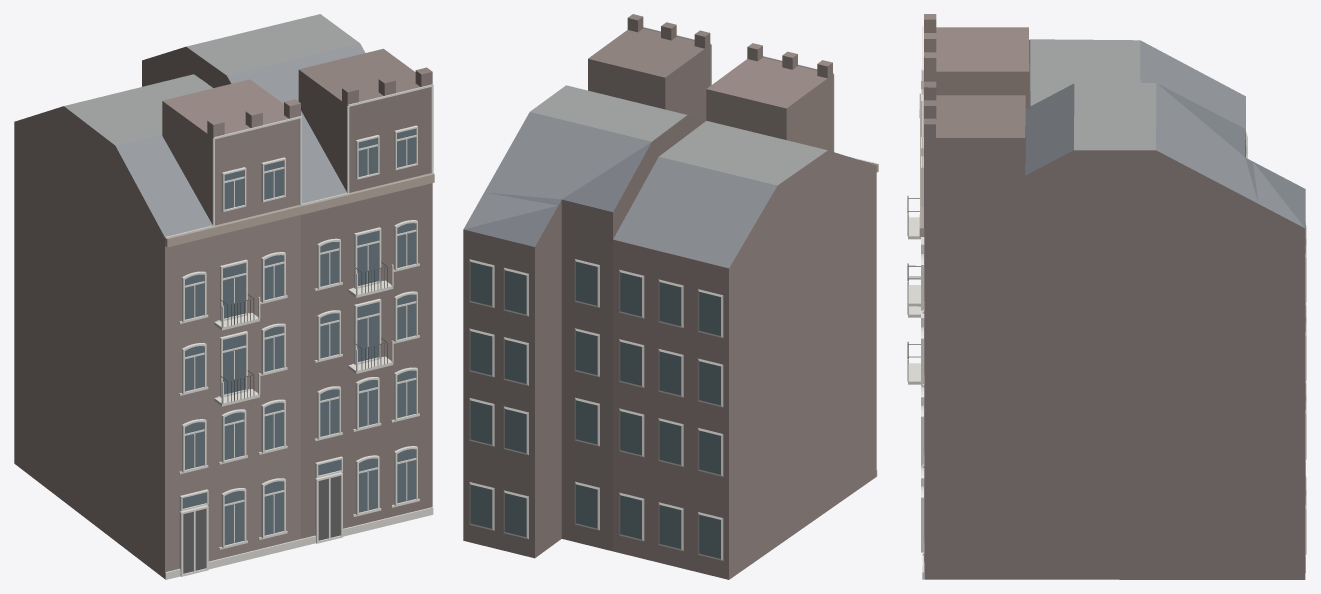
File: chunk-face-helmers-32-66-r1.glb
The picture shows the model from 3 angles, left to right: view 1: azimuth 30°, elevation 25°; view 2: azimuth 150°, elevation 25°; view 3: azimuth 270°, elevation 25°; orthographic projection. The views are drawn at different scales.
Visible parts, largest first — view 1: face-helmers-32-66-r1; view 2: face-helmers-32-66-r1; view 3: face-helmers-32-66-r1.
Part boxes in pixels (box(x1,y1,x2,y2)): face-helmers-32-66-r1: box(14, 14, 434, 579); face-helmers-32-66-r1: box(463, 14, 878, 579); face-helmers-32-66-r1: box(907, 14, 1306, 579).
Size of the model in its own units: 11.81 by 18.63 by 14.81.
